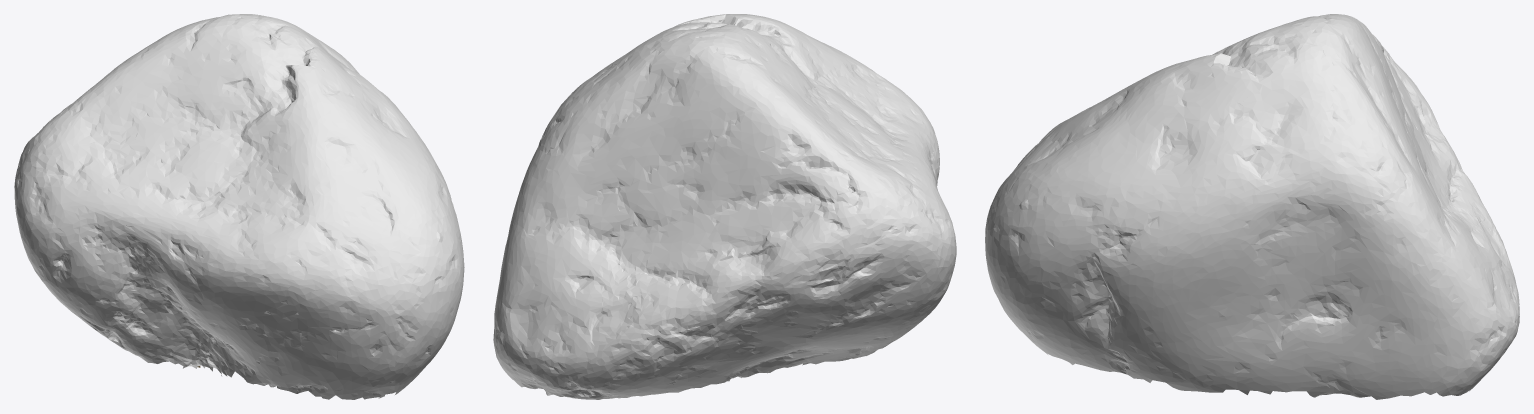
The picture shows the model from 3 angles, left to right: view 1: azimuth 30°, elevation 25°; view 2: azimuth 150°, elevation 25°; view 3: azimuth 270°, elevation 25°; orthographic projection. The views are drawn at different scales.
Visible parts, largest first — view 1: sutr29_sutr29_0.001; view 2: sutr29_sutr29_0.001; view 3: sutr29_sutr29_0.001.
Boxes of the visible parts, x1,y1,x2,y2 form: sutr29_sutr29_0.001: (14,14,464,399); sutr29_sutr29_0.001: (493,14,956,399); sutr29_sutr29_0.001: (985,14,1519,399).
Size of the model in its own units: 66.8 by 53.43 by 82.5.
Materials: 2 (1 with a texture image).
